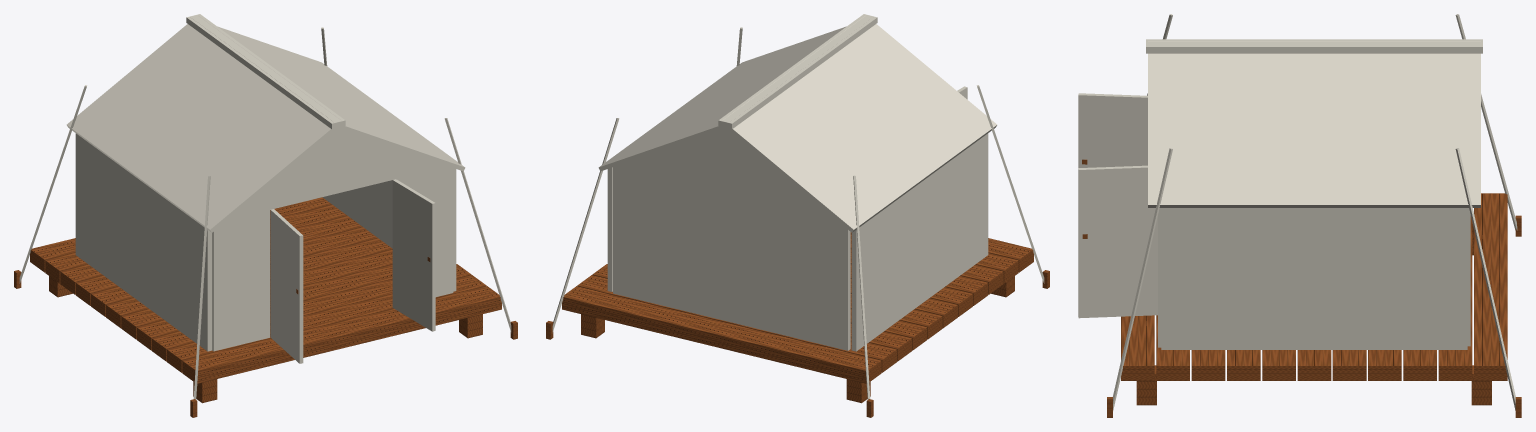
File: safari-camp-and-bush-lodge-safari-tent-large-open-f8233e80__37666.glb
The picture shows the model from 3 angles, left to right: view 1: azimuth 30°, elevation 25°; view 2: azimuth 150°, elevation 25°; view 3: azimuth 270°, elevation 25°; orthographic projection. The views are drawn at different scales.
Visible parts, largest first — view 1: safari-tent-large-open-canvas, safari-tent-large-open-timber, flap-right, flap-left; view 2: safari-tent-large-open-canvas, safari-tent-large-open-timber; view 3: safari-tent-large-open-canvas, safari-tent-large-open-timber, flap-right, flap-left.
Boxes of the visible parts, x1,y1,x2,y2 form: safari-tent-large-open-canvas: [19, 14, 511, 399]; safari-tent-large-open-timber: [14, 197, 517, 417]; flap-right: [392, 179, 435, 331]; flap-left: [270, 209, 303, 363]; safari-tent-large-open-canvas: [552, 14, 1044, 399]; safari-tent-large-open-timber: [546, 232, 1049, 417]; safari-tent-large-open-canvas: [1113, 14, 1517, 410]; safari-tent-large-open-timber: [1107, 193, 1521, 417]; flap-right: [1078, 165, 1157, 318]; flap-left: [1078, 93, 1147, 167].
Size of the model in its own units: 4.26 by 3.06 by 4.34.
Materials: 2 (1 with a texture image).
